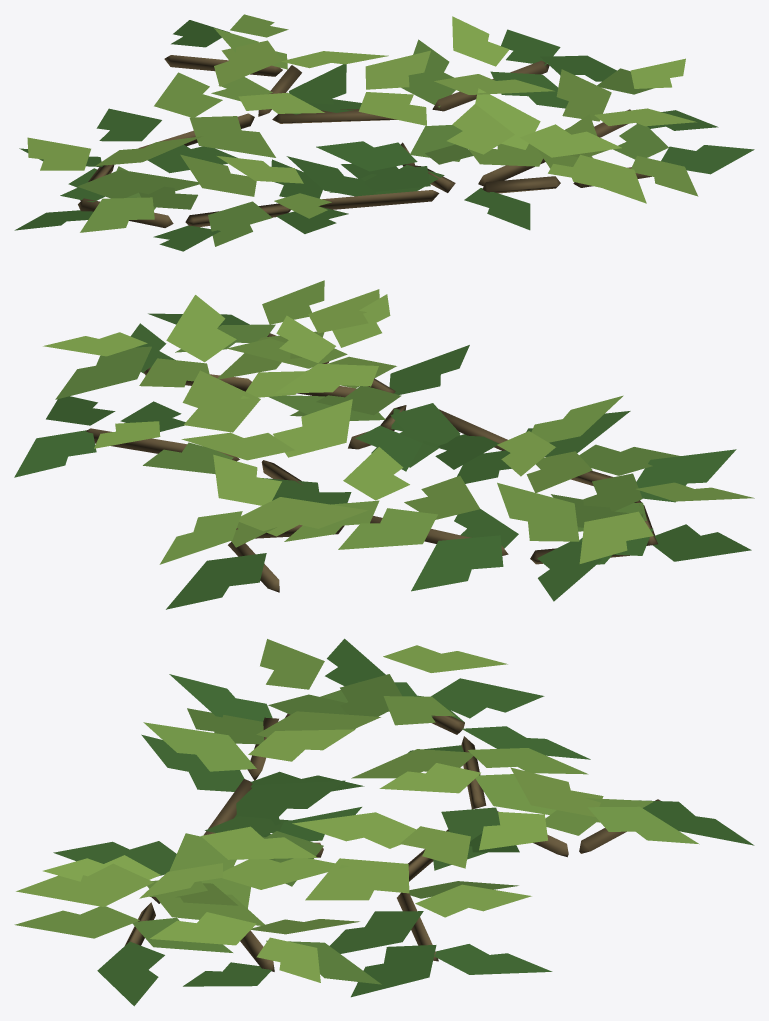
File: leaf_mat_1.glb
The picture shows the model from 3 angles, top to bottom: view 1: azimuth 30°, elevation 25°; view 2: azimuth 150°, elevation 25°; view 3: azimuth 270°, elevation 25°; orthographic projection. The views are drawn at different scales.
Visible parts, largest first — view 1: leaf_mat_1; view 2: leaf_mat_1; view 3: leaf_mat_1.
Boxes of the visible parts, x1,y1,x2,y2 form: leaf_mat_1: (14,14,754,251); leaf_mat_1: (14,280,754,609); leaf_mat_1: (14,638,754,1006).
Size of the model in its own units: 0.7 by 0.04 by 0.6.
2 materials, 2 textured.
